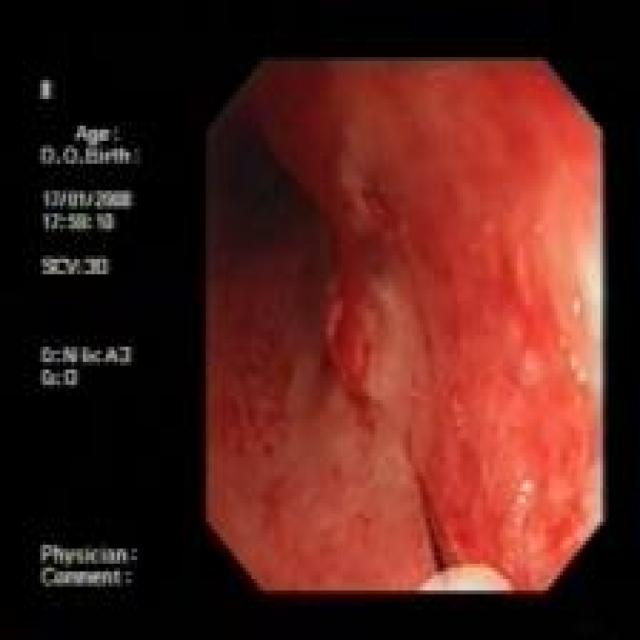blood: (218, 211, 397, 453)
color misalignment: (32, 63, 163, 601)
contrast: (208, 61, 342, 320)
instrument: (413, 476, 513, 591)
saturation: (537, 158, 601, 401)
